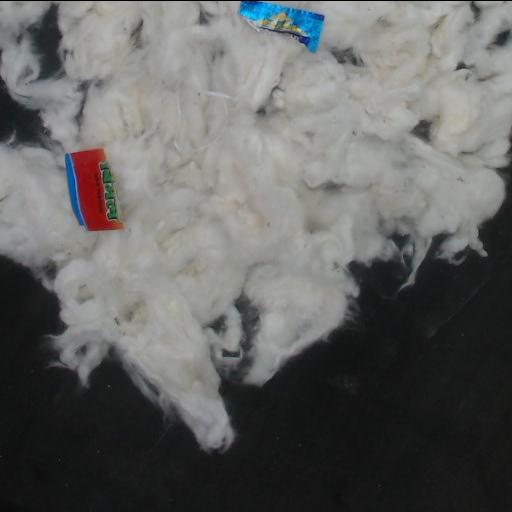conveyor belt: (0, 166, 511, 512), (0, 82, 43, 143), (32, 8, 59, 75), (268, 168, 277, 174)
cotton: (0, 1, 511, 450)
packet: (65, 149, 122, 230), (239, 1, 324, 50)
